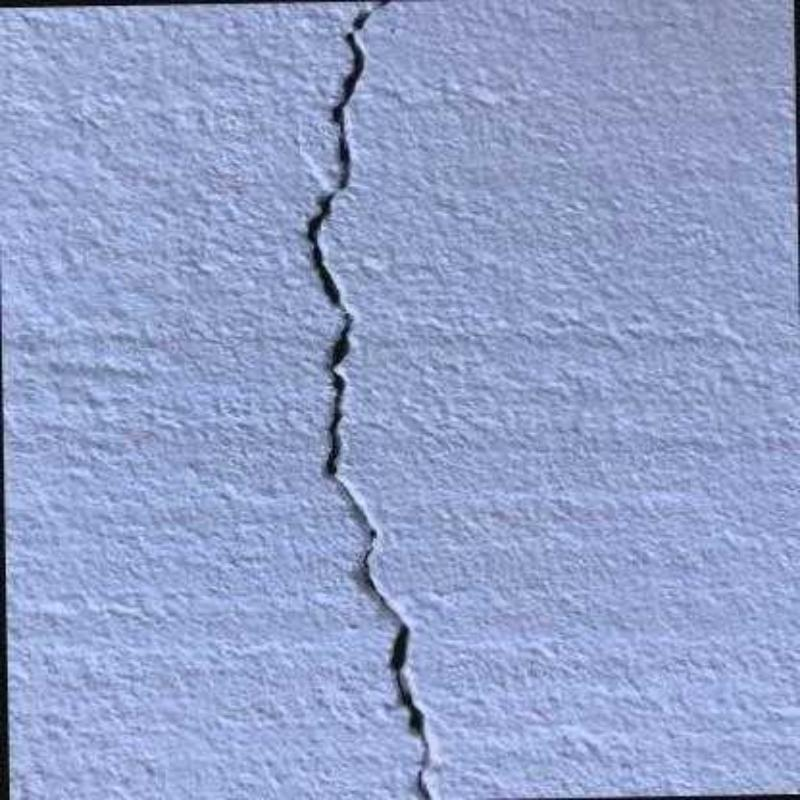crack: (295, 0, 438, 800)
